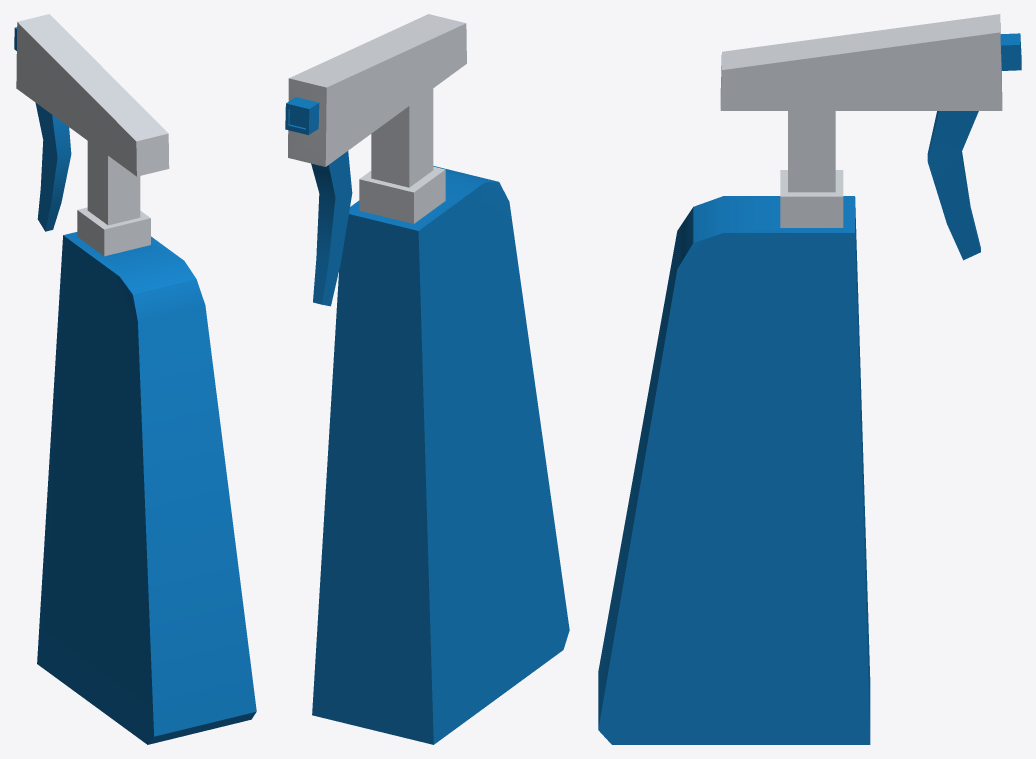
The model's file is F_Spray_001.fbx.
3 views of the same model, side by side, from view 1: azimuth 30°, elevation 25°; view 2: azimuth 150°, elevation 25°; view 3: azimuth 270°, elevation 25° (orthographic). The views are drawn at different scales.
Parts seen in each view (by area): view 1: F_Spray_001; view 2: F_Spray_001; view 3: F_Spray_001.
Boxes of the visible parts, x1=… form: F_Spray_001: x1=14, y1=14, x2=256, y2=744; F_Spray_001: x1=285, y1=14, x2=569, y2=744; F_Spray_001: x1=598, y1=14, x2=1021, y2=744.
Size of the model in its own units: 6.73 by 36.74 by 20.37.
